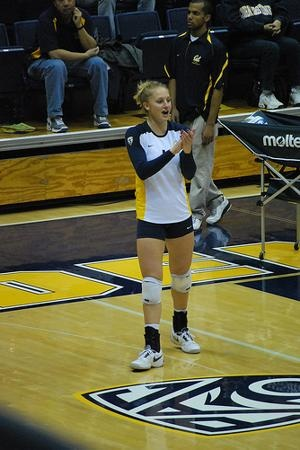person without safety: (124, 71, 200, 371)
